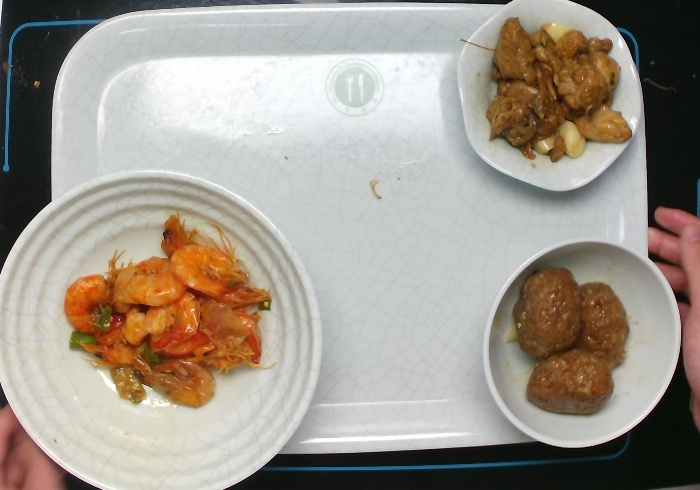JYsf-Da_Tang_Wan: (1, 167, 327, 490)
JYsf-Fan_Wan: (480, 237, 685, 452)
WCQzf-Hua_Duo_Wan: (455, 1, 646, 196)
